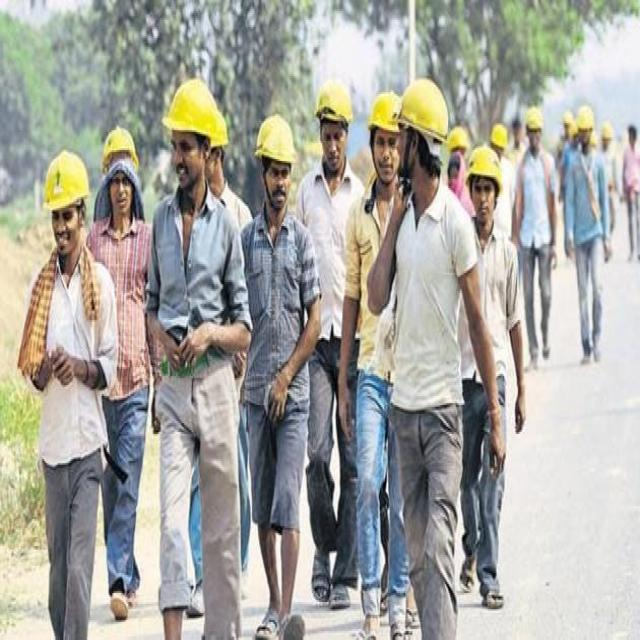safety_helmet: (160, 74, 228, 144), (398, 76, 449, 143), (40, 146, 89, 215), (253, 110, 296, 166), (312, 74, 353, 126), (365, 84, 400, 137), (99, 121, 139, 166), (464, 142, 505, 184), (523, 101, 545, 133)
